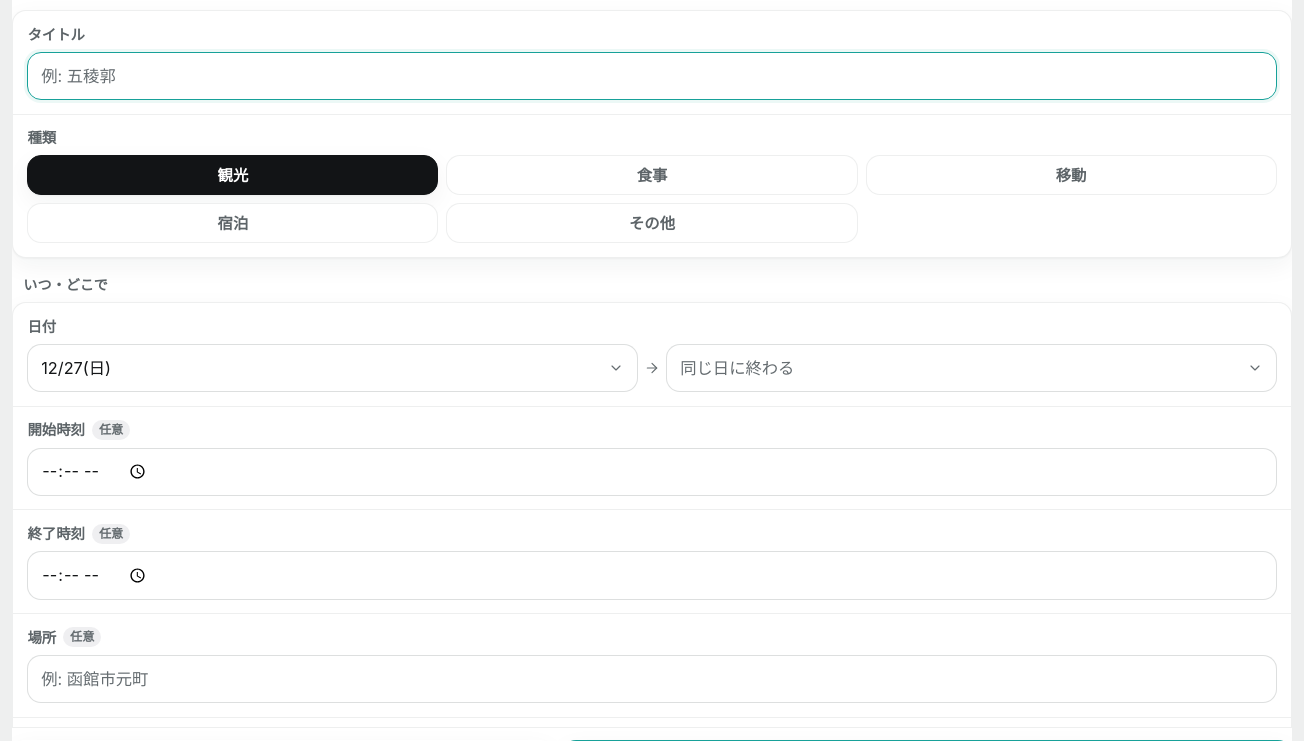
Test: 旅行の予定の入力: 移動の出発地と目的地(2026-10-14、要望「日程で経路の場合、出発地と目的地を入れられるといい」) › 種類が「移動」の時だけ、「出発地」と「目的地」の欄が出る(それ以外は、これまでどおり「場所」だけ)
The image size is (1304, 741).
Expected: the field labelled "場所 任意" is shown, [27,655,1277,703]
Expected: the field labelled "目的地" is not shown
Click the button "移動" at (1071, 176), box [866,156,1277,196]
(page scrolled)
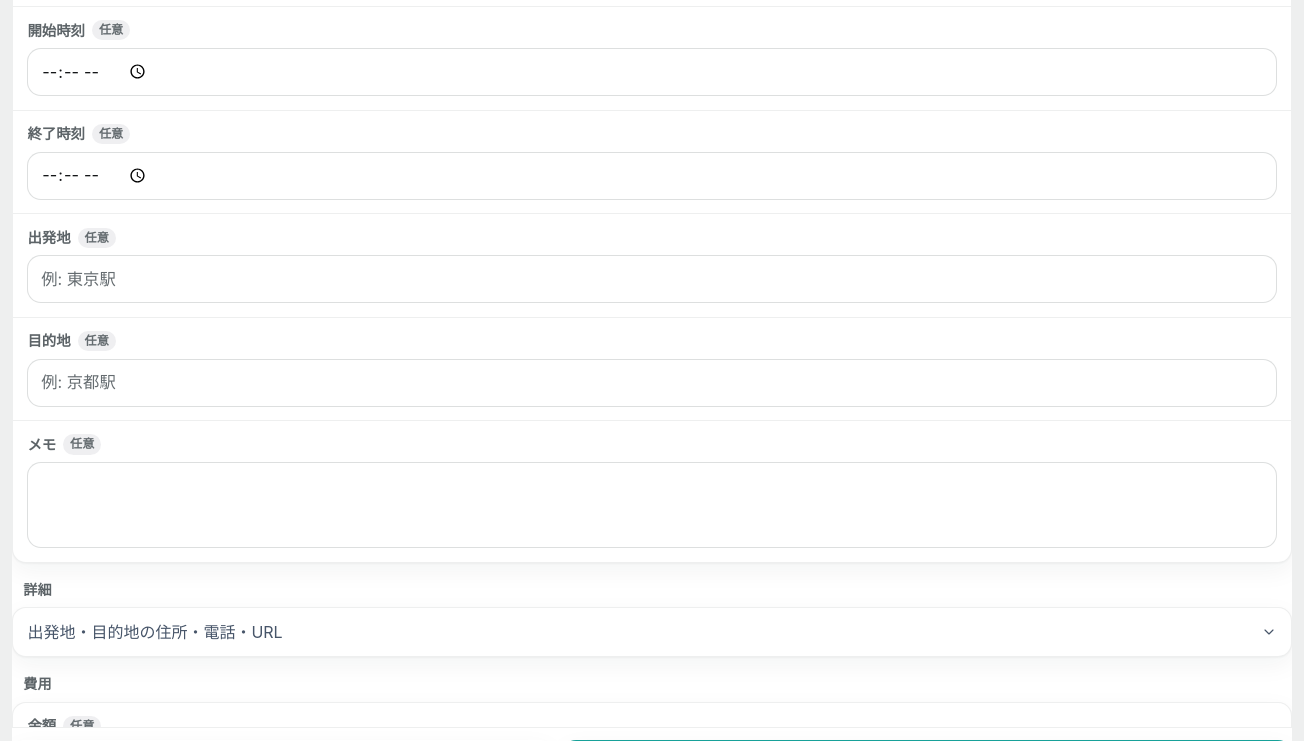
Expected: the field labelled "出発地 任意" is shown, [27,255,1277,303]
Expected: the field labelled "目的地 任意" is shown, [27,359,1277,407]
Expected: the text labelled "場所" is gone
